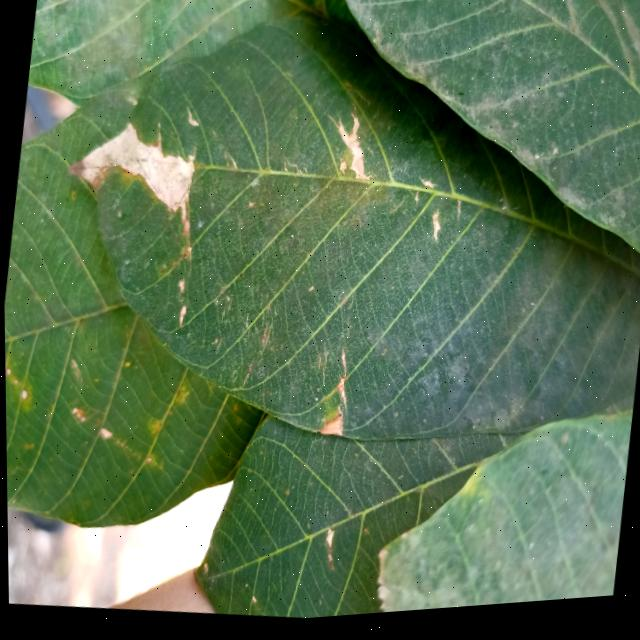Leaf-Blight: (61, 112, 202, 225), (332, 117, 371, 184), (317, 417, 343, 442)
